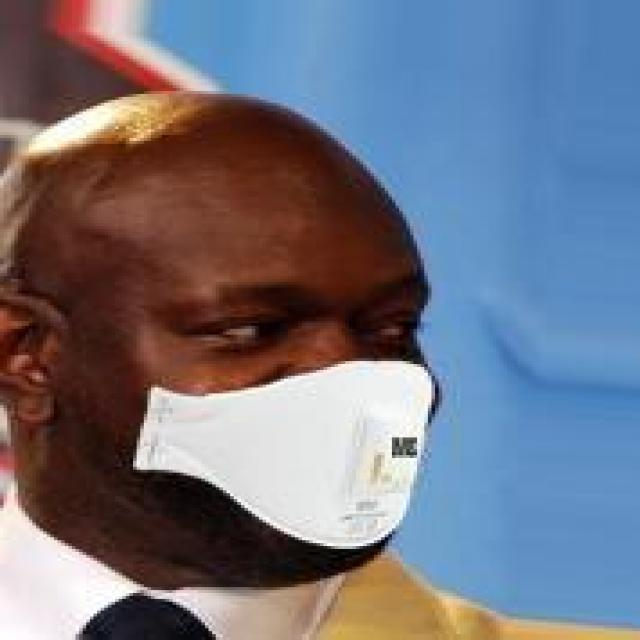mask: (7, 76, 482, 593)
